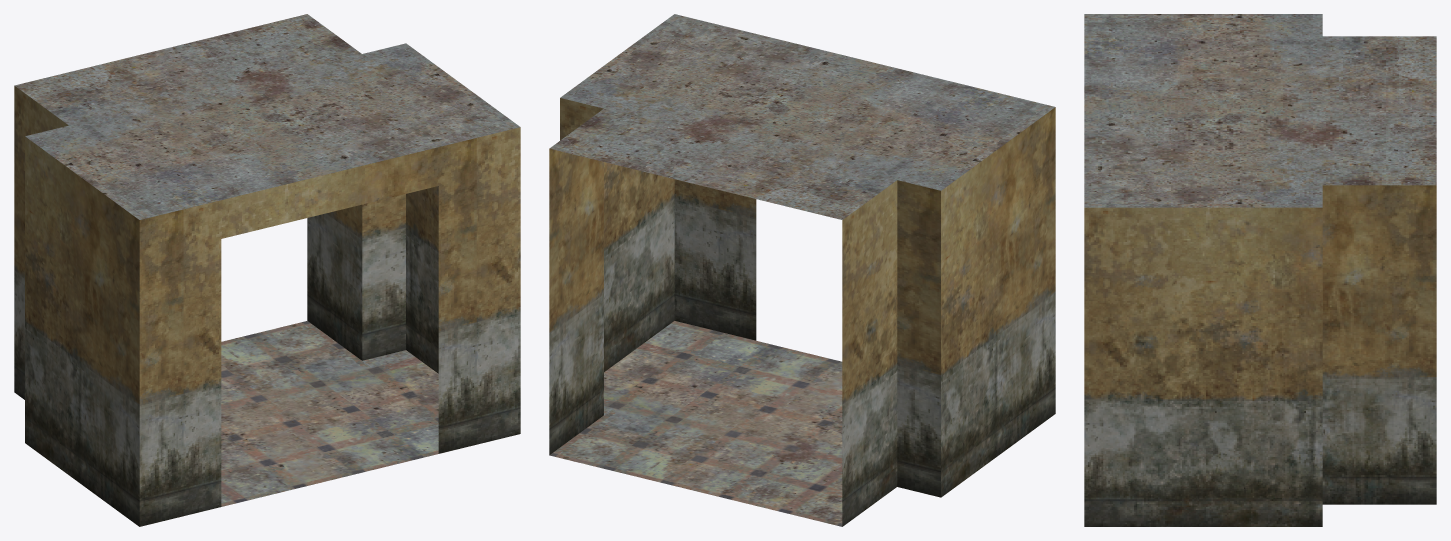
The model's file is _Corridor_part18.FBX.
3 views of the same model, side by side, from view 1: azimuth 30°, elevation 25°; view 2: azimuth 150°, elevation 25°; view 3: azimuth 270°, elevation 25° (orthographic). The views are drawn at different scales.
Parts seen in each view (by area): view 1: Corridor_Part18; view 2: Corridor_Part18; view 3: Corridor_Part18.
Part boxes in pixels (x1,y1,x2,y2): Corridor_Part18: (14,14,520,526); Corridor_Part18: (549,14,1055,526); Corridor_Part18: (1084,14,1436,526).
Size of the model in its own units: 330 by 254 by 254.
3 materials, 3 textured.
